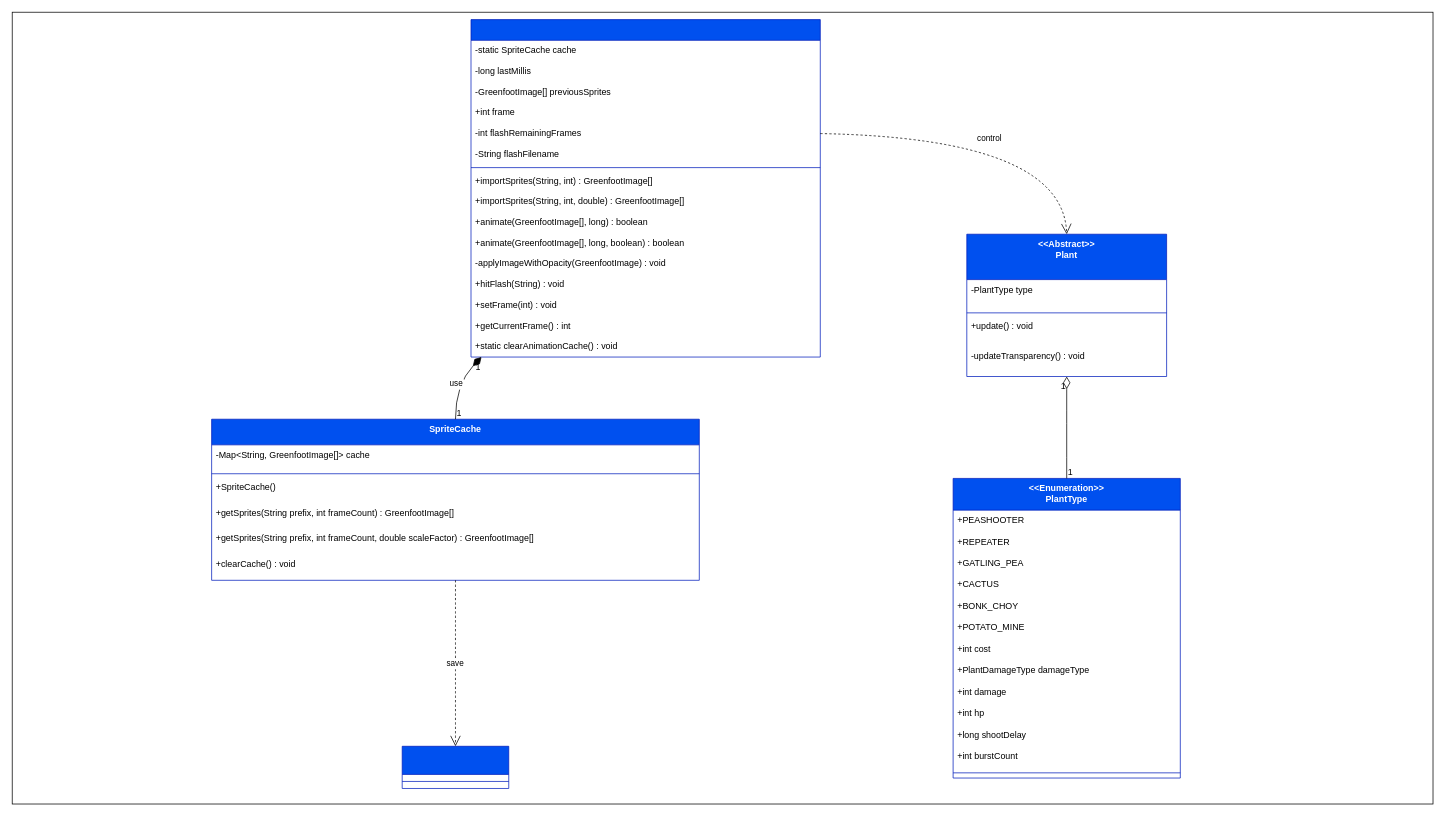
Image size: 1445x816. Some labels were removed from this diagram. Each missing label, with the box of its shape:
GreenfootImage: (401, 746, 509, 788)
SpriteAnimator: (470, 19, 820, 357)
